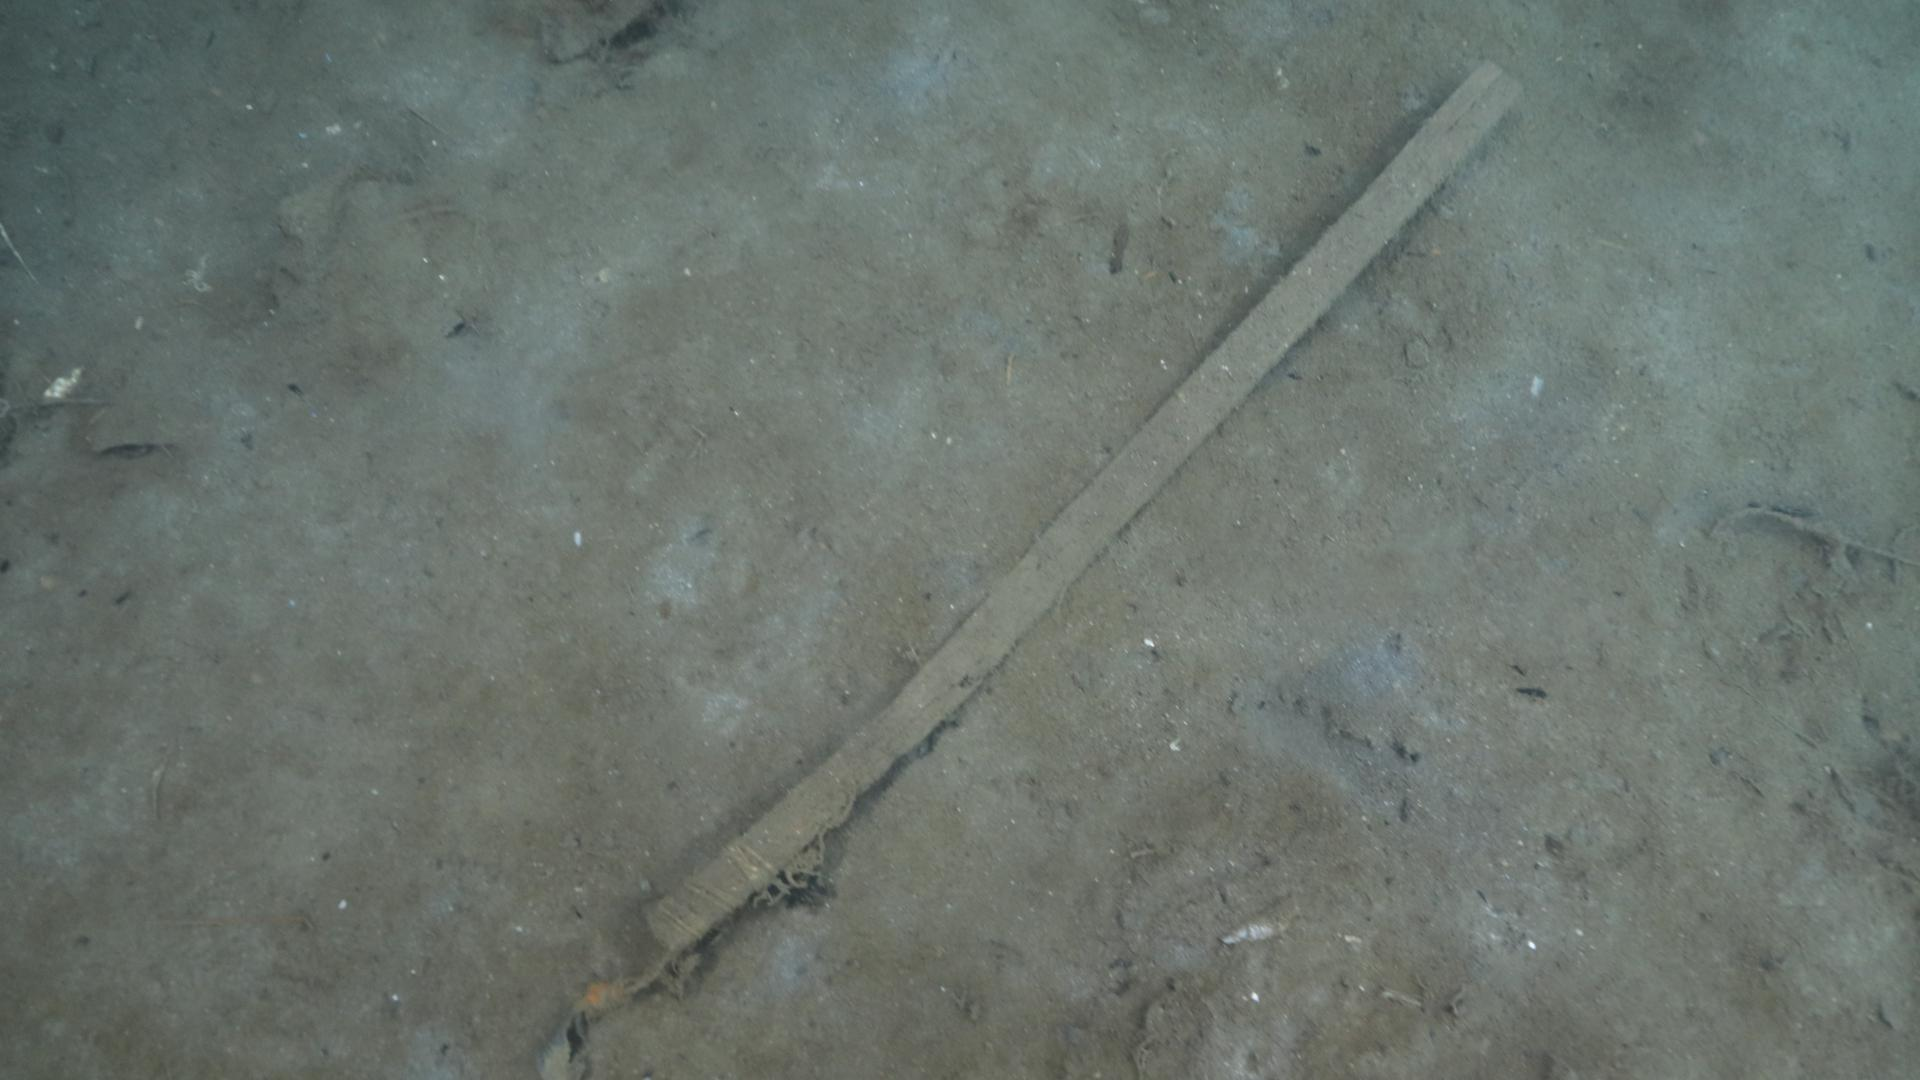wood: (640, 57, 1524, 951)
